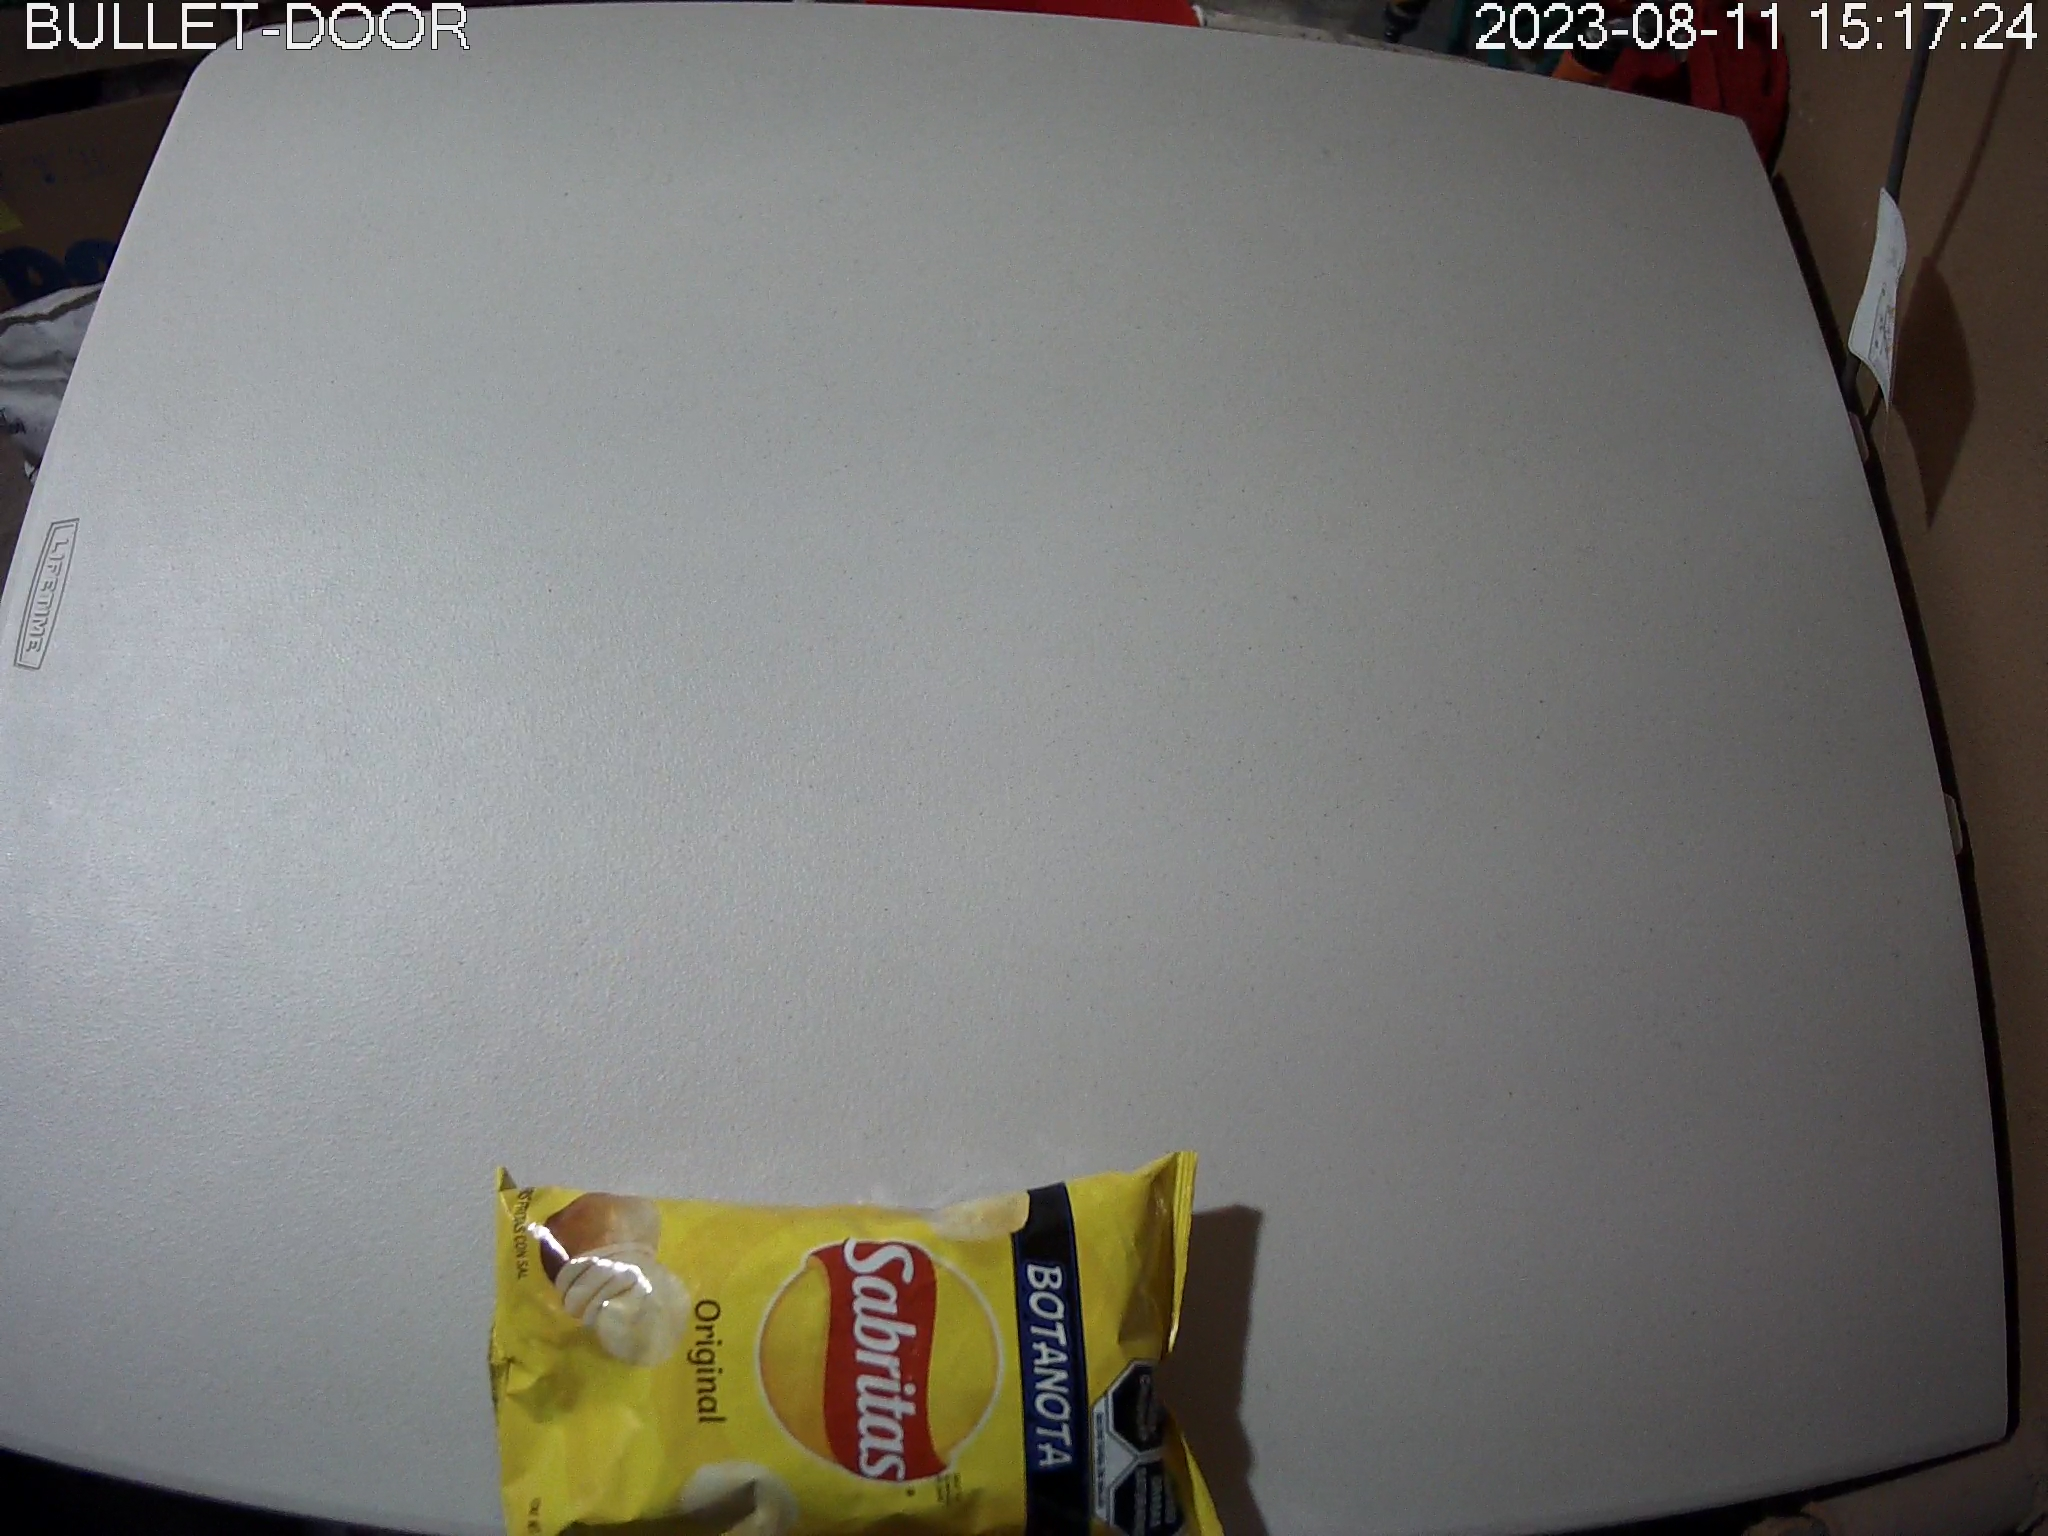Sabritas_64_F: (485, 1146, 1226, 1536)
